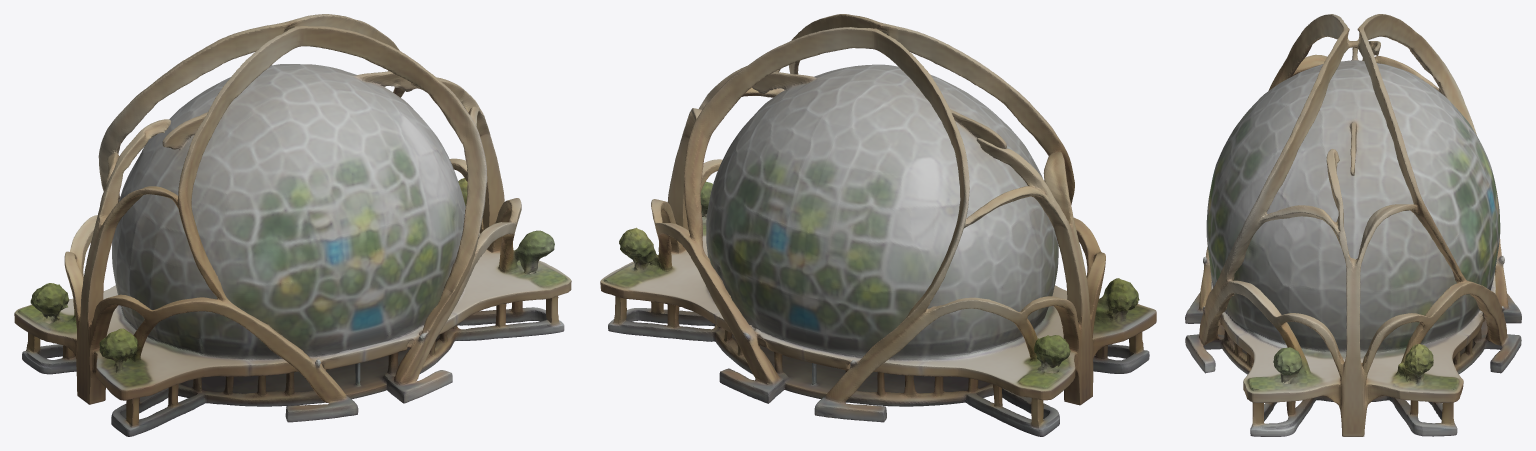
3 renders of one model, left to right at view 1: azimuth 30°, elevation 25°; view 2: azimuth 150°, elevation 25°; view 3: azimuth 270°, elevation 25°, orthographic. The views are drawn at different scales.
Visible parts, largest first — view 1: geometry_0; view 2: geometry_0; view 3: geometry_0.
Part boxes in pixels (x1,y1,x2,y2): geometry_0: (14,14,571,436); geometry_0: (600,14,1156,436); geometry_0: (1185,14,1521,436).
Size of the model in its own units: 0.9983 by 0.6838 by 0.6722.
